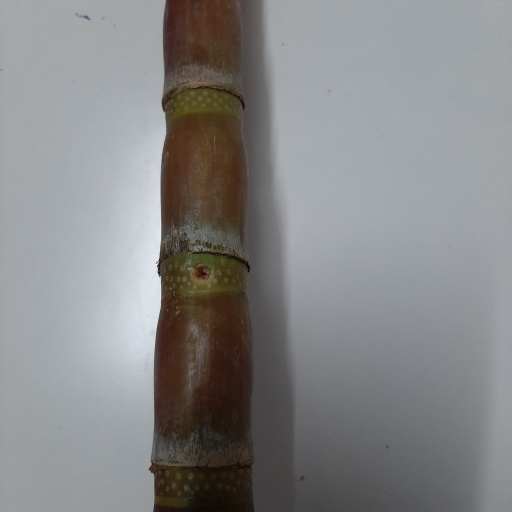Damage_Bud: (189, 263, 215, 284)
